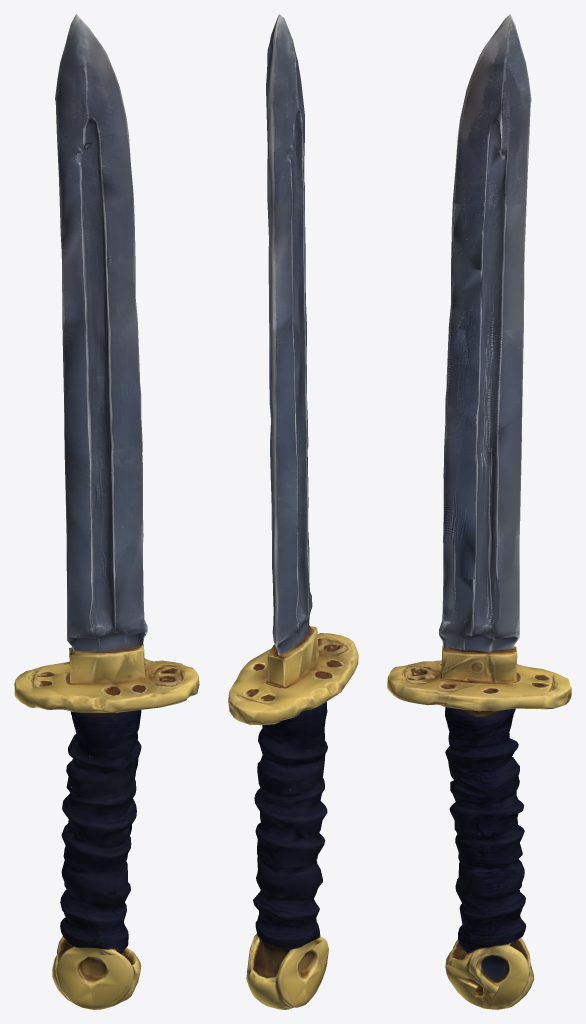
File: twin-short-sword.glb
3 views of the same model, side by side, from view 1: azimuth 90°, elevation 25°; view 2: azimuth 150°, elevation 25°; view 3: azimuth 270°, elevation 25° (orthographic).
Visible parts, largest first — view 1: twin-short-sword; view 2: twin-short-sword; view 3: twin-short-sword.
Boxes of the visible parts, x1=… form: twin-short-sword: x1=14, y1=14, x2=199, y2=1009; twin-short-sword: x1=228, y1=14, x2=358, y2=1009; twin-short-sword: x1=387, y1=14, x2=571, y2=1009.
Bounding box in the file's own units: 0.0554 × 0.6001 × 0.1013.
1 material, 1 textured.
